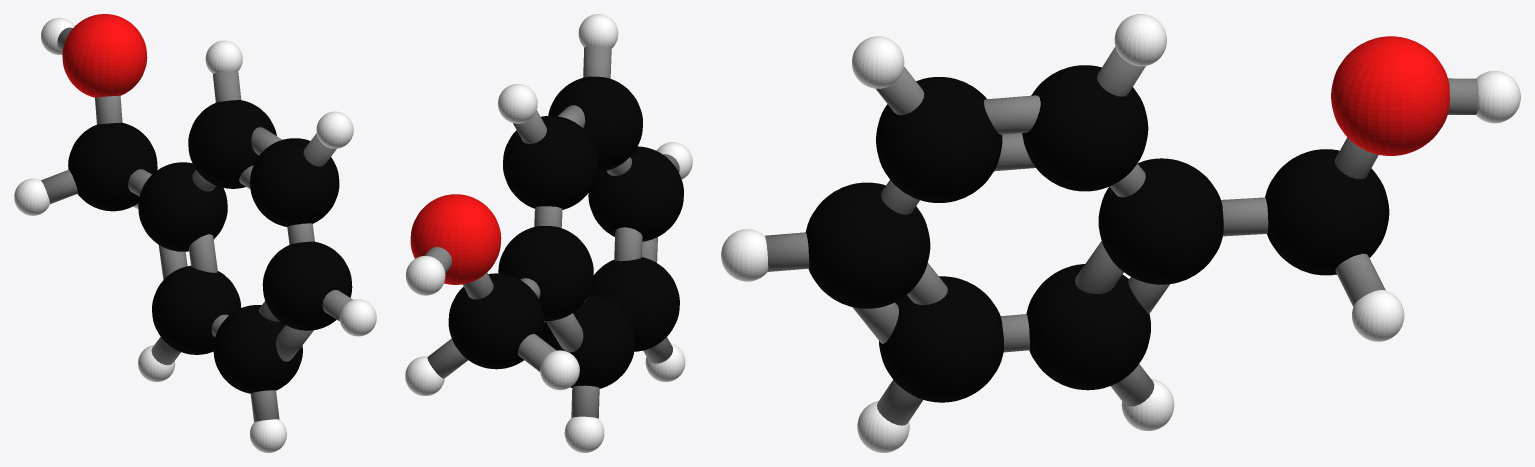
File: BENCILICO.obj
3 views of the same model, side by side, from view 1: azimuth 30°, elevation 25°; view 2: azimuth 150°, elevation 25°; view 3: azimuth 270°, elevation 25° (orthographic). The views are drawn at different scales.
Visible parts, largest first — view 1: Carbon_ball_Sphere.001, Hydrogen_ball_Sphere, Oxygen_ball_Sphere.002, Stick_Cylinder.016_Cylinder.016, Stick_Cylinder.017_Cylinder.017, Stick_Cylinder.014_Cylinder.014, Stick_Cylinder_Cylinder, Stick_Cylinder.008_Cylinder.008, Stick_Cylinder.013_Cylinder.013, Stick_Cylinder.001_Cylinder.001, Stick_Cylinder.010_Cylinder.010, Stick_Cylinder.003_Cylinder.003 (+4 smaller); view 2: Carbon_ball_Sphere.001, Hydrogen_ball_Sphere, Oxygen_ball_Sphere.002, Stick_Cylinder.010_Cylinder.010, Stick_Cylinder.015_Cylinder.015, Stick_Cylinder.001_Cylinder.001, Stick_Cylinder.005_Cylinder.005, Stick_Cylinder.002_Cylinder.002, Stick_Cylinder.014_Cylinder.014, Stick_Cylinder.008_Cylinder.008, Stick_Cylinder.007_Cylinder.007, Stick_Cylinder.013_Cylinder.013 (+4 smaller); view 3: Carbon_ball_Sphere.001, Hydrogen_ball_Sphere, Oxygen_ball_Sphere.002, Stick_Cylinder.006_Cylinder.006, Stick_Cylinder.009_Cylinder.009, Stick_Cylinder.003_Cylinder.003, Stick_Cylinder.015_Cylinder.015, Stick_Cylinder.016_Cylinder.016, Stick_Cylinder.008_Cylinder.008, Stick_Cylinder.001_Cylinder.001, Stick_Cylinder_Cylinder, Stick_Cylinder.013_Cylinder.013 (+7 smaller).
Part boxes in pixels (<box>): Carbon_ball_Sphere.001: <box>68,100,352,393</box>; Hydrogen_ball_Sphere: <box>14,17,376,452</box>; Oxygen_ball_Sphere.002: <box>62,14,147,97</box>; Stick_Cylinder.016_Cylinder.016: <box>189,234,217,272</box>; Stick_Cylinder.017_Cylinder.017: <box>276,325,313,361</box>; Stick_Cylinder.014_Cylinder.014: <box>41,169,77,204</box>; Stick_Cylinder_Cylinder: <box>250,390,279,422</box>; Stick_Cylinder.008_Cylinder.008: <box>213,71,241,102</box>; Stick_Cylinder.013_Cylinder.013: <box>95,95,122,124</box>; Stick_Cylinder.001_Cylinder.001: <box>303,133,336,166</box>; Stick_Cylinder.010_Cylinder.010: <box>158,245,187,279</box>; Stick_Cylinder.003_Cylinder.003: <box>322,290,353,321</box>; Carbon_ball_Sphere.001: <box>448,76,683,388</box>; Hydrogen_ball_Sphere: <box>405,14,692,452</box>; Oxygen_ball_Sphere.002: <box>410,194,501,284</box>; Stick_Cylinder.010_Cylinder.010: <box>546,313,583,352</box>; Stick_Cylinder.015_Cylinder.015: <box>427,338,468,378</box>; Stick_Cylinder.001_Cylinder.001: <box>583,45,611,78</box>; Stick_Cylinder.005_Cylinder.005: <box>614,227,642,261</box>; Stick_Cylinder.002_Cylinder.002: <box>571,385,599,418</box>; Stick_Cylinder.014_Cylinder.014: <box>518,334,556,371</box>; Stick_Cylinder.008_Cylinder.008: <box>513,110,546,143</box>; Stick_Cylinder.007_Cylinder.007: <box>534,206,562,227</box>; Stick_Cylinder.013_Cylinder.013: <box>463,272,493,299</box>; Carbon_ball_Sphere.001: <box>805,65,1389,402</box>; Hydrogen_ball_Sphere: <box>721,14,1520,452</box>; Oxygen_ball_Sphere.002: <box>1331,36,1449,155</box>; Stick_Cylinder.006_Cylinder.006: <box>983,95,1040,134</box>; Stick_Cylinder.009_Cylinder.009: <box>1221,197,1268,236</box>; Stick_Cylinder.003_Cylinder.003: <box>765,232,809,271</box>; Stick_Cylinder.015_Cylinder.015: <box>1335,253,1385,306</box>; Stick_Cylinder.016_Cylinder.016: <box>1075,241,1123,293</box>; Stick_Cylinder.008_Cylinder.008: <box>1097,47,1145,96</box>; Stick_Cylinder.001_Cylinder.001: <box>876,66,924,115</box>; Stick_Cylinder_Cylinder: <box>877,380,923,425</box>; Stick_Cylinder.013_Cylinder.013: <box>1335,137,1378,179</box>.
Size of the model in its own units: 3.02 by 5.64 by 8.77.
